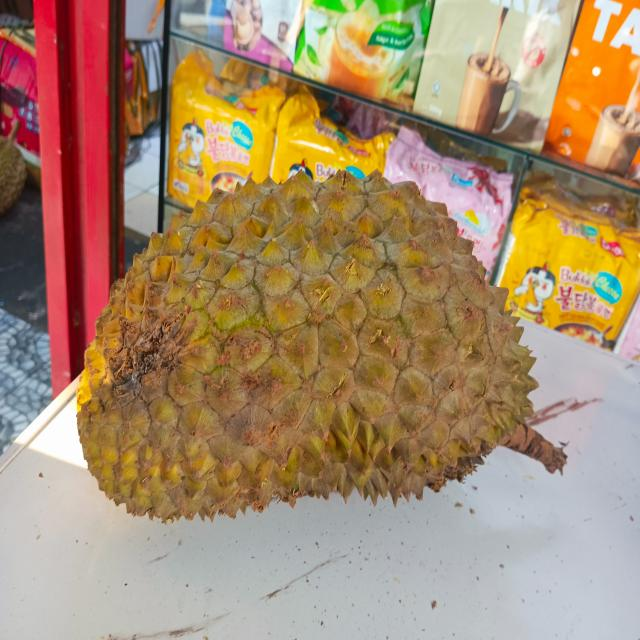mature: (77, 167, 573, 513)
